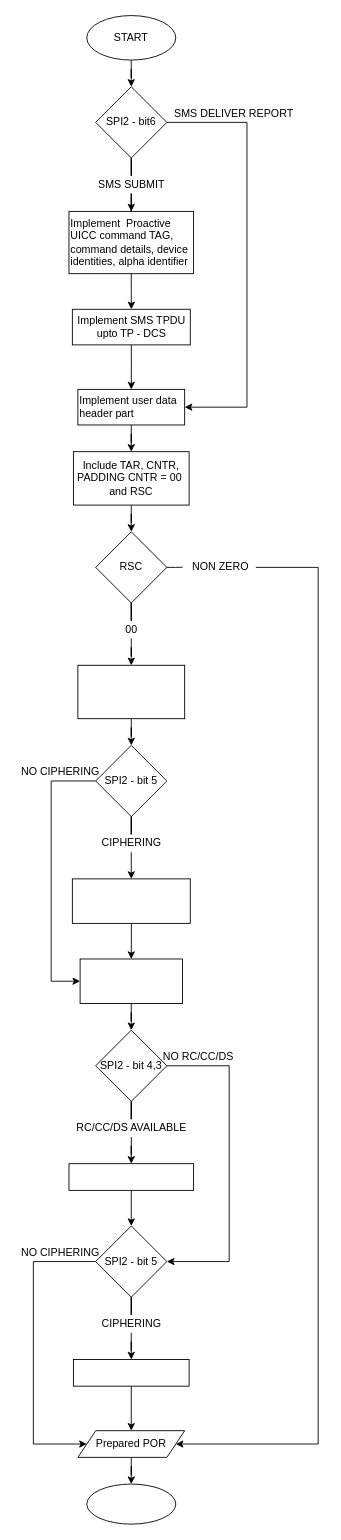
This 341x1540 diagram has some shape labels left out. Each missing label, with the centre of its shape:
add required PADDING and update PADDING CNTR: the point at 130,900
Calculate length and include in POR: the point at 130,980
CHECKSUM calculation: the point at 131,1176
Encrypt SECURE DATA: the point at 131,1372
Include ADDITIONAL RESPONSE DATA: the point at 131,691
STOP: the point at 131,1503
